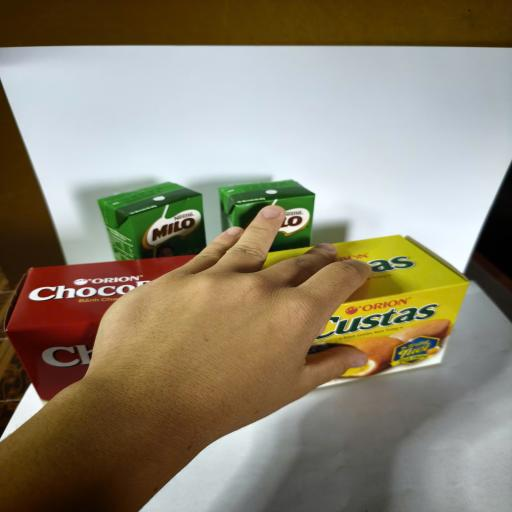chocopie: (5, 254, 200, 402)
custas: (262, 234, 470, 387)
milo: (97, 182, 207, 261), (218, 180, 315, 252)
